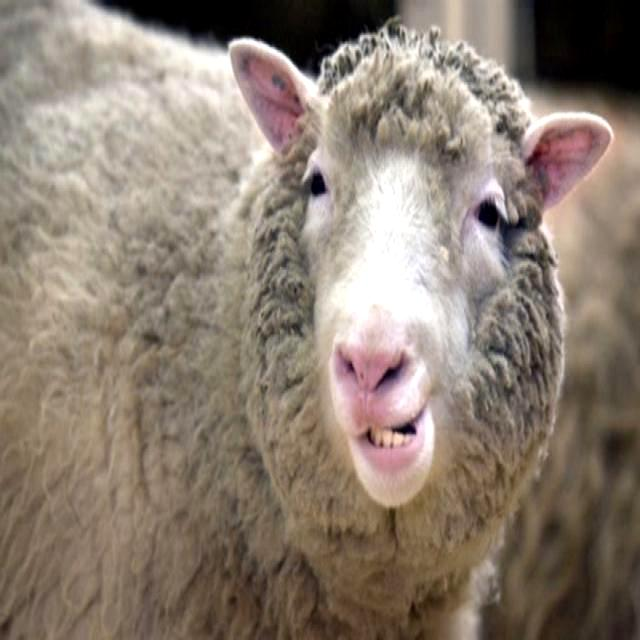sheep: (0, 1, 614, 639)
